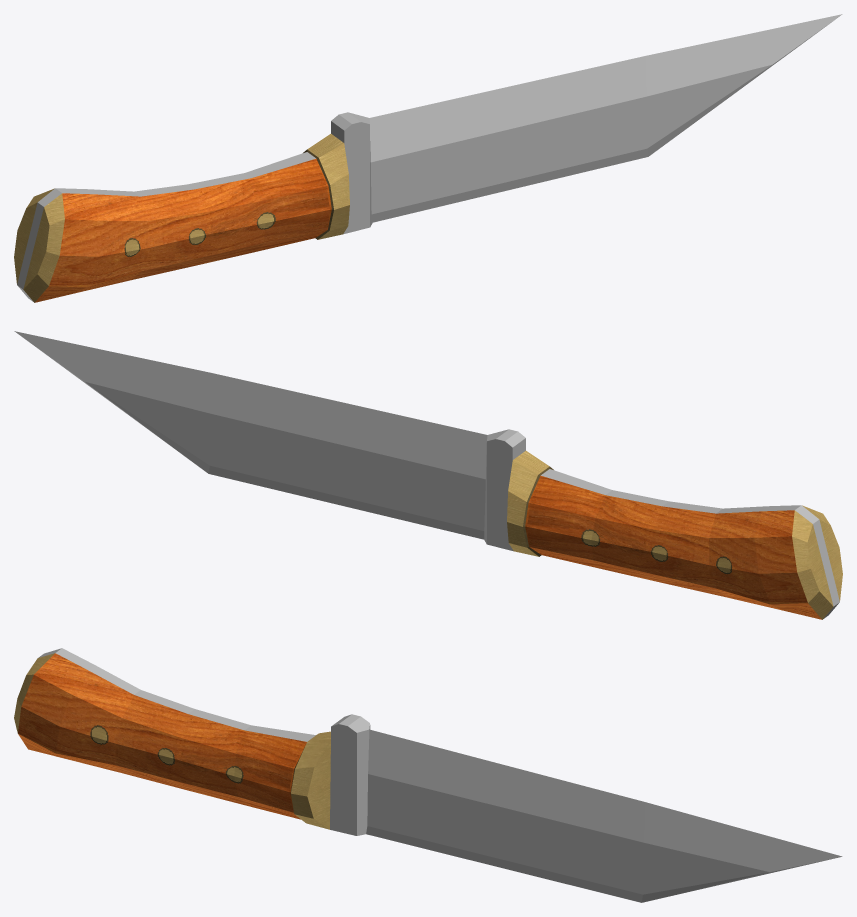
File: Seax.fbx
The picture shows the model from 3 angles, top to bottom: view 1: azimuth 30°, elevation 25°; view 2: azimuth 150°, elevation 25°; view 3: azimuth 330°, elevation 25°; orthographic projection.
Parts seen in each view (by area): view 1: ZomboidSeax; view 2: ZomboidSeax; view 3: ZomboidSeax.
Part boxes in pixels (x1=…): ZomboidSeax: x1=14, y1=14, x2=842, y2=302; ZomboidSeax: x1=14, y1=331, x2=842, y2=619; ZomboidSeax: x1=14, y1=648, x2=842, y2=902.
Size of the model in its own units: 0.3371 by 0.0424 by 0.0307.
